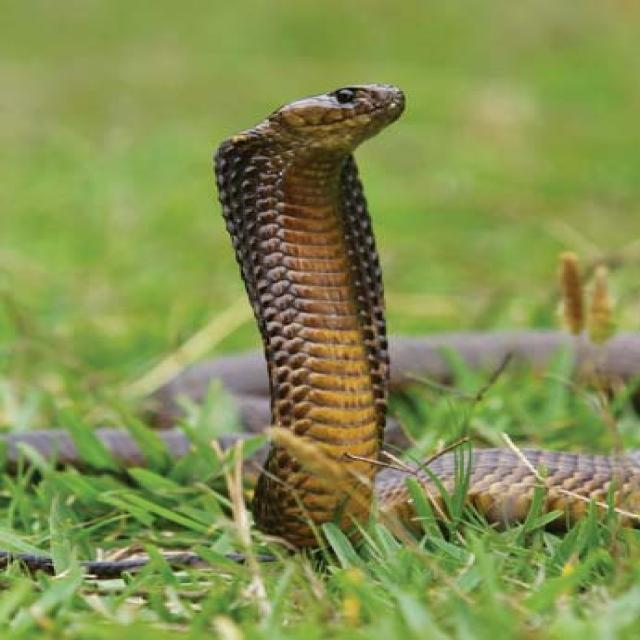Snake: (187, 65, 640, 568)
